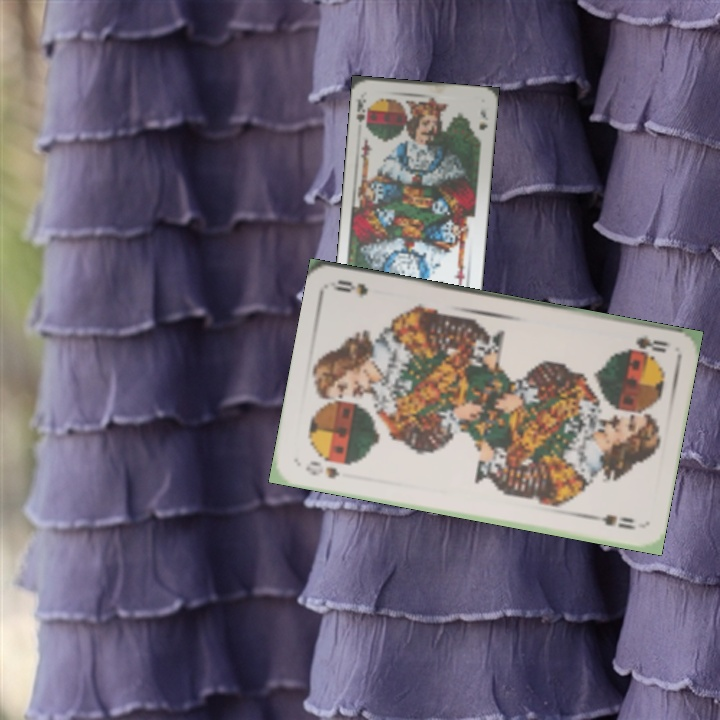SK: (352, 95, 369, 125)
SO: (621, 331, 673, 356), (301, 456, 342, 481)
